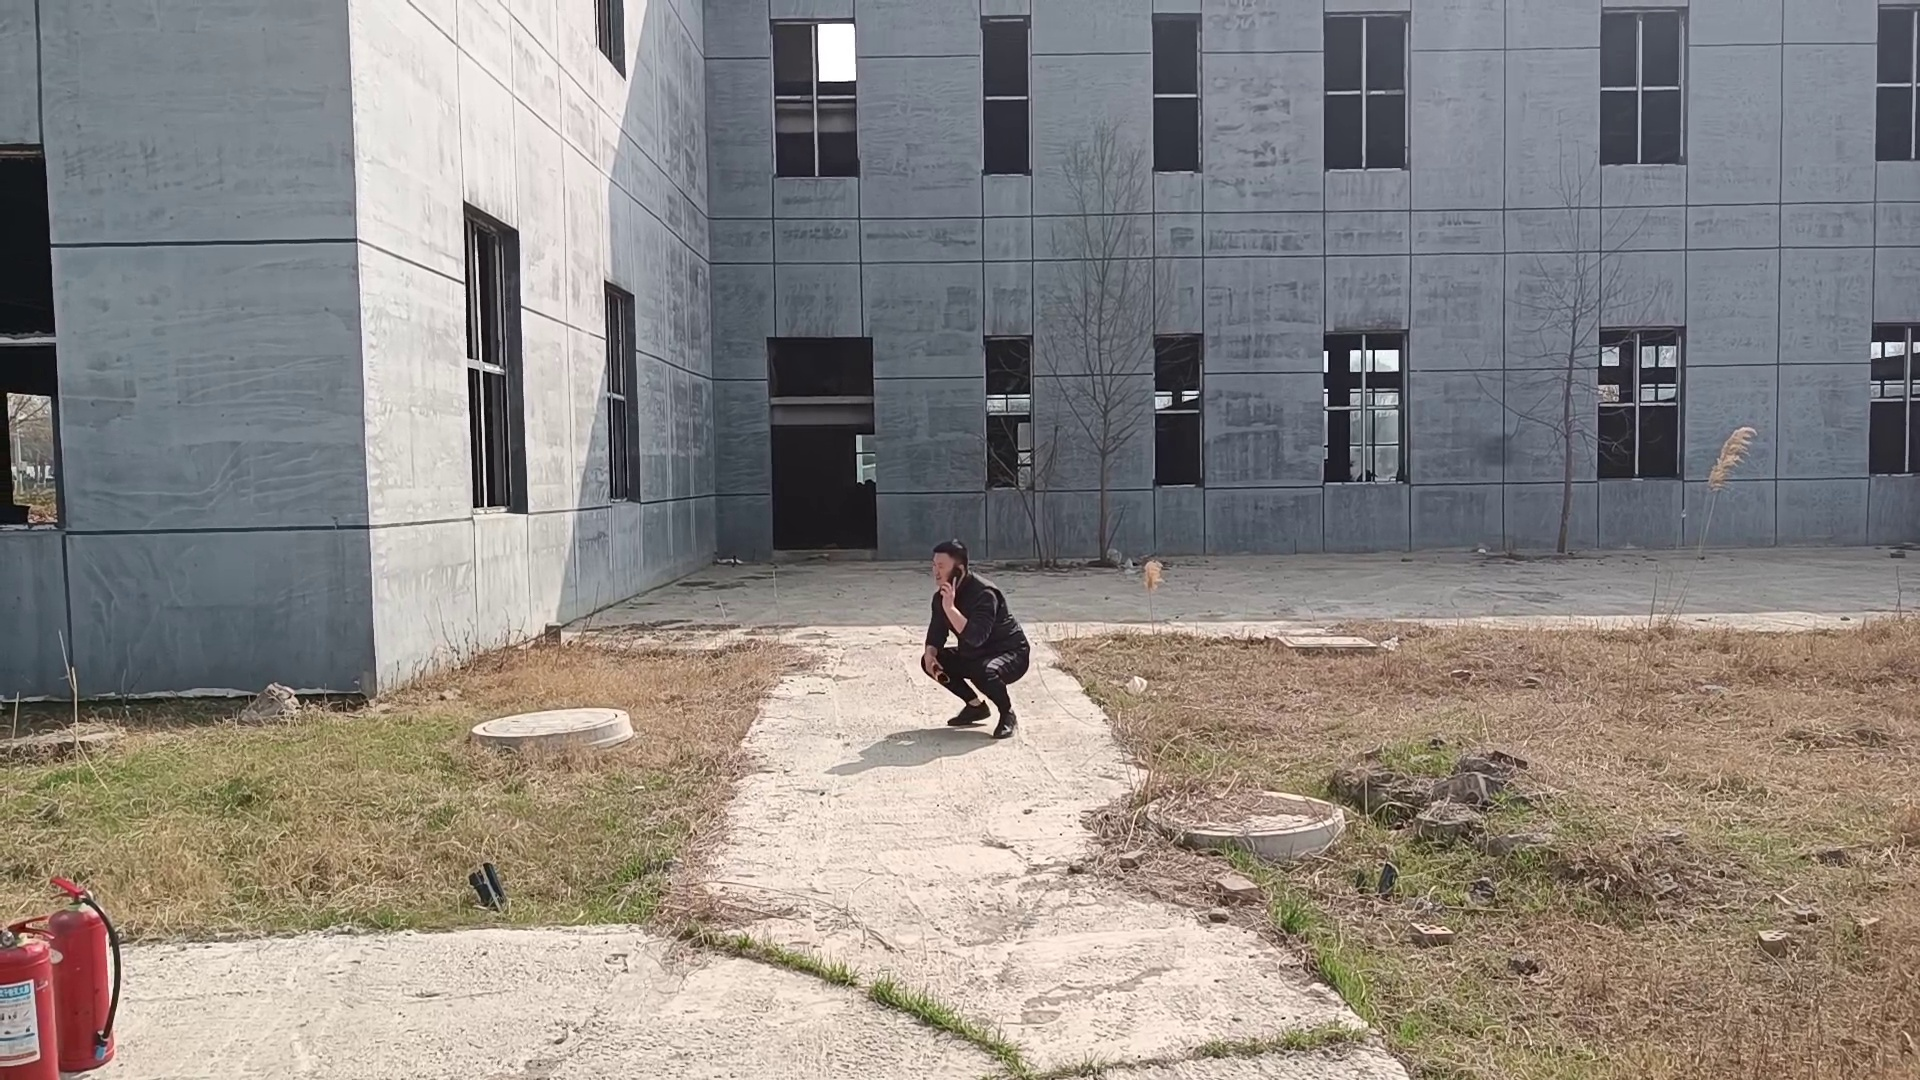phone: (931, 534, 967, 620)
